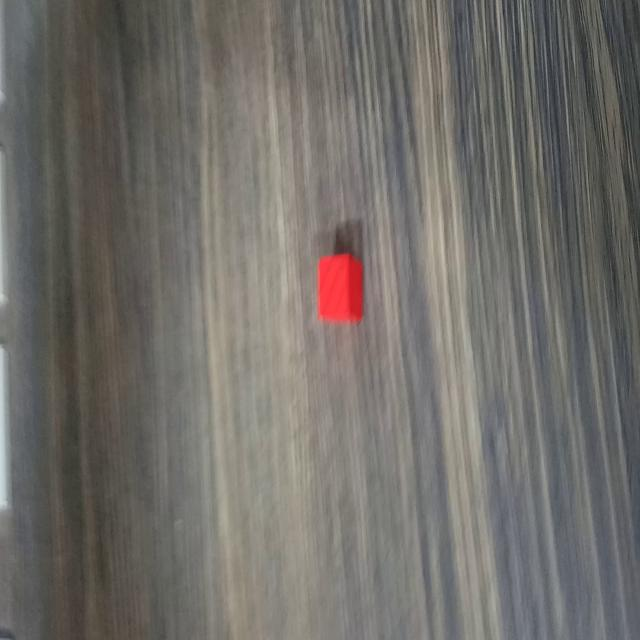cube: (313, 249, 366, 326)
